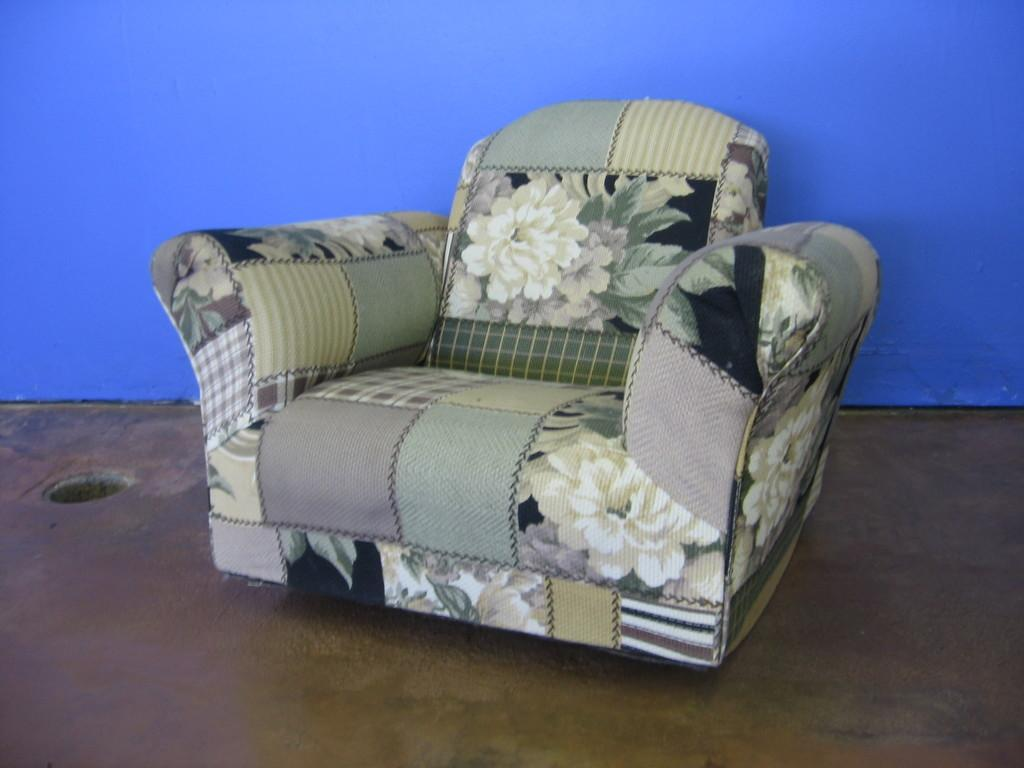Chair: (208, 134, 883, 715)
